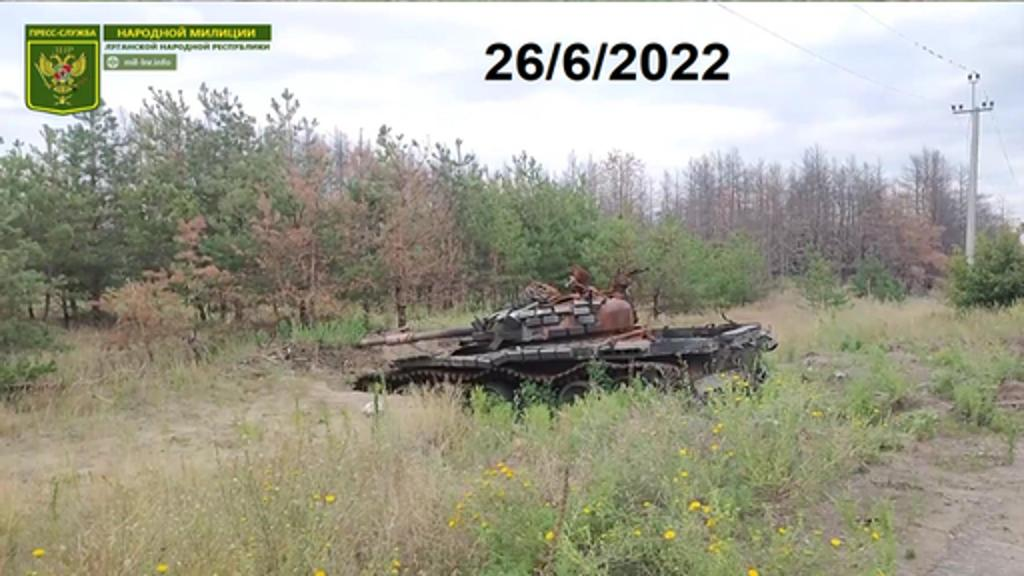TANK: (338, 274, 766, 426)
